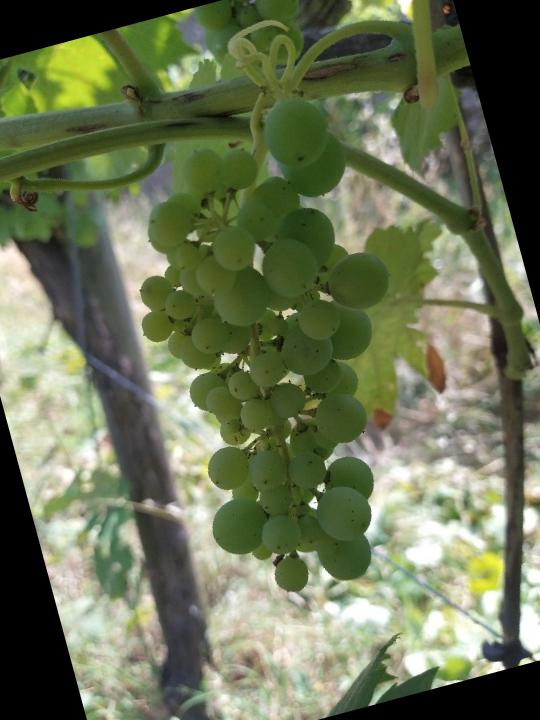grape: (89, 76, 467, 620)
